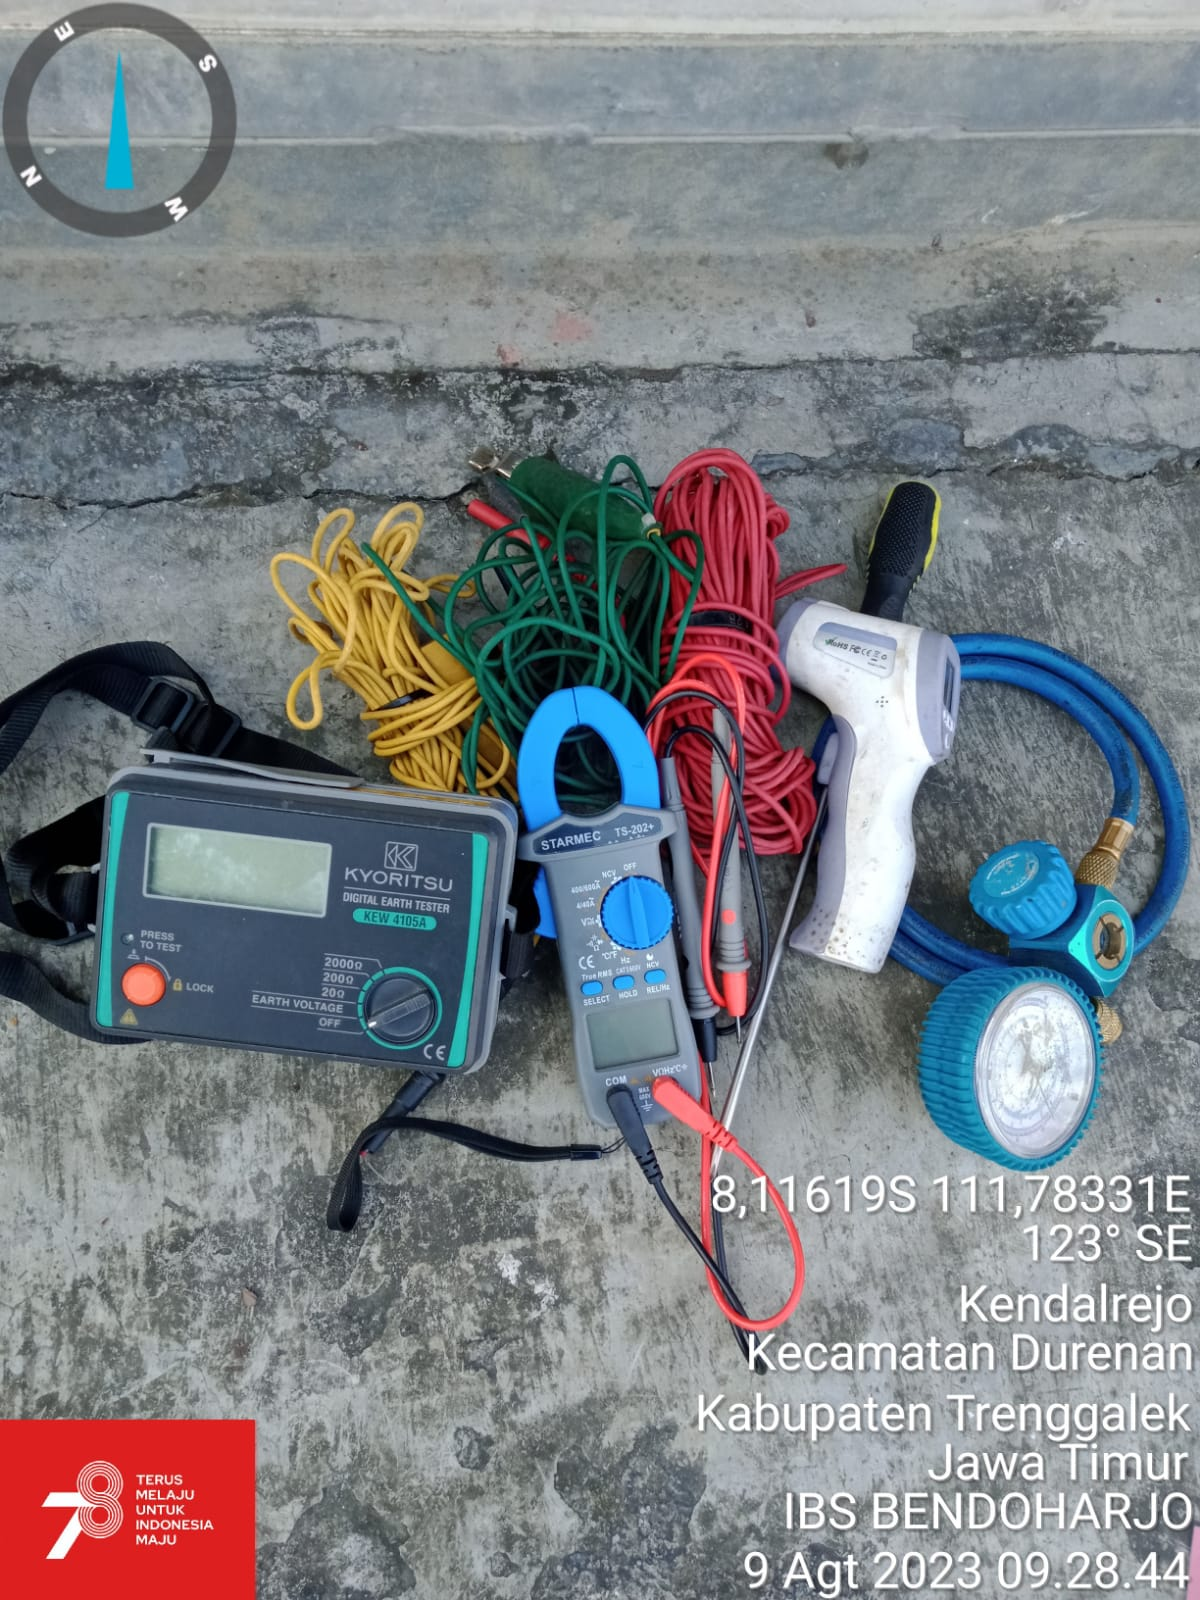EARTH_GROUNDING_TESTER: (89, 752, 517, 1097)
TANG_AMPERE: (518, 680, 713, 1128)
